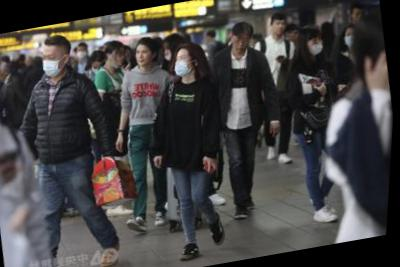NONE: (233, 34, 254, 55), (135, 46, 155, 67), (273, 19, 289, 36), (353, 8, 368, 24), (289, 29, 301, 43)
OK: (42, 48, 68, 78), (173, 52, 197, 79), (308, 36, 326, 56), (344, 29, 362, 47), (92, 63, 107, 75), (77, 48, 89, 60)
WRONG: (112, 49, 130, 68), (162, 44, 177, 62)
